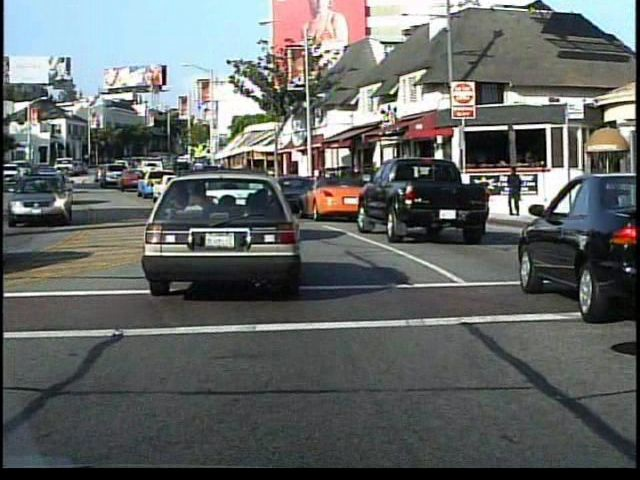person: (504, 167, 525, 222)
